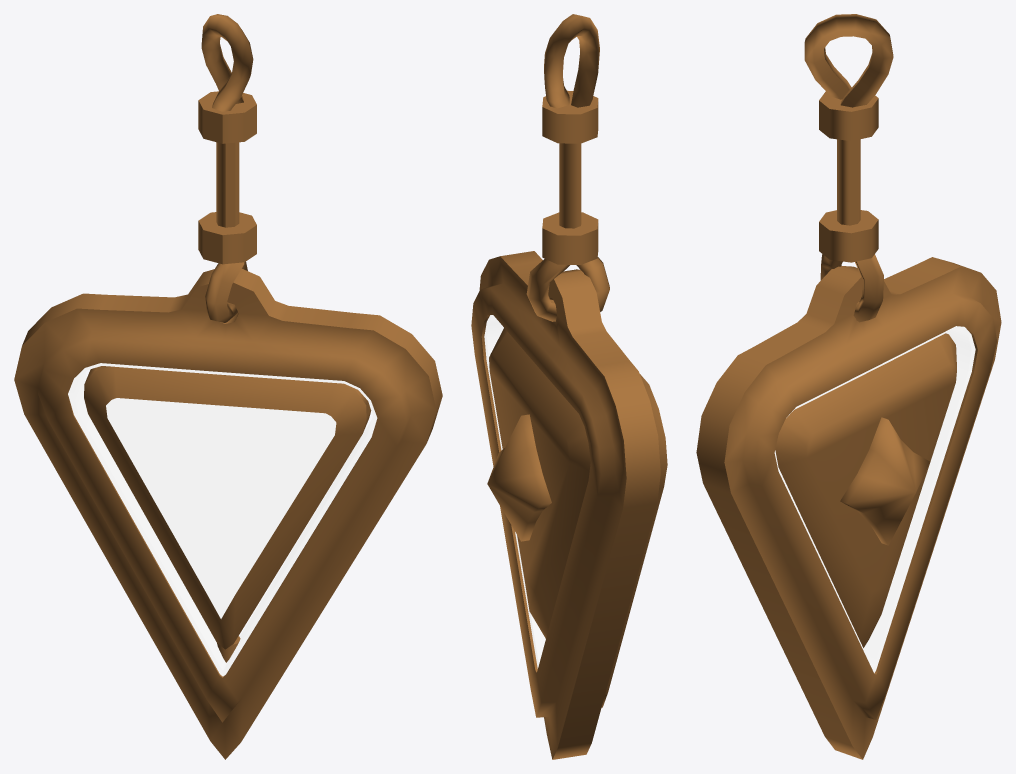
File: bronze.glb
The picture shows the model from 3 angles, left to right: view 1: azimuth 30°, elevation 25°; view 2: azimuth 150°, elevation 25°; view 3: azimuth 270°, elevation 25°; orthographic projection.
Parts seen in each view (by area): view 1: GN_Buddies_RankEP8_Bronze_Skelmesh.mo.001; view 2: GN_Buddies_RankEP8_Bronze_Skelmesh.mo.001; view 3: GN_Buddies_RankEP8_Bronze_Skelmesh.mo.001.
Part boxes in pixels (box(x1,y1,x2,y2)): GN_Buddies_RankEP8_Bronze_Skelmesh.mo.001: box(14, 14, 442, 759); GN_Buddies_RankEP8_Bronze_Skelmesh.mo.001: box(471, 14, 667, 759); GN_Buddies_RankEP8_Bronze_Skelmesh.mo.001: box(696, 14, 1001, 759).
Size of the model in its own units: 0.0212 by 0.0487 by 0.0182.
